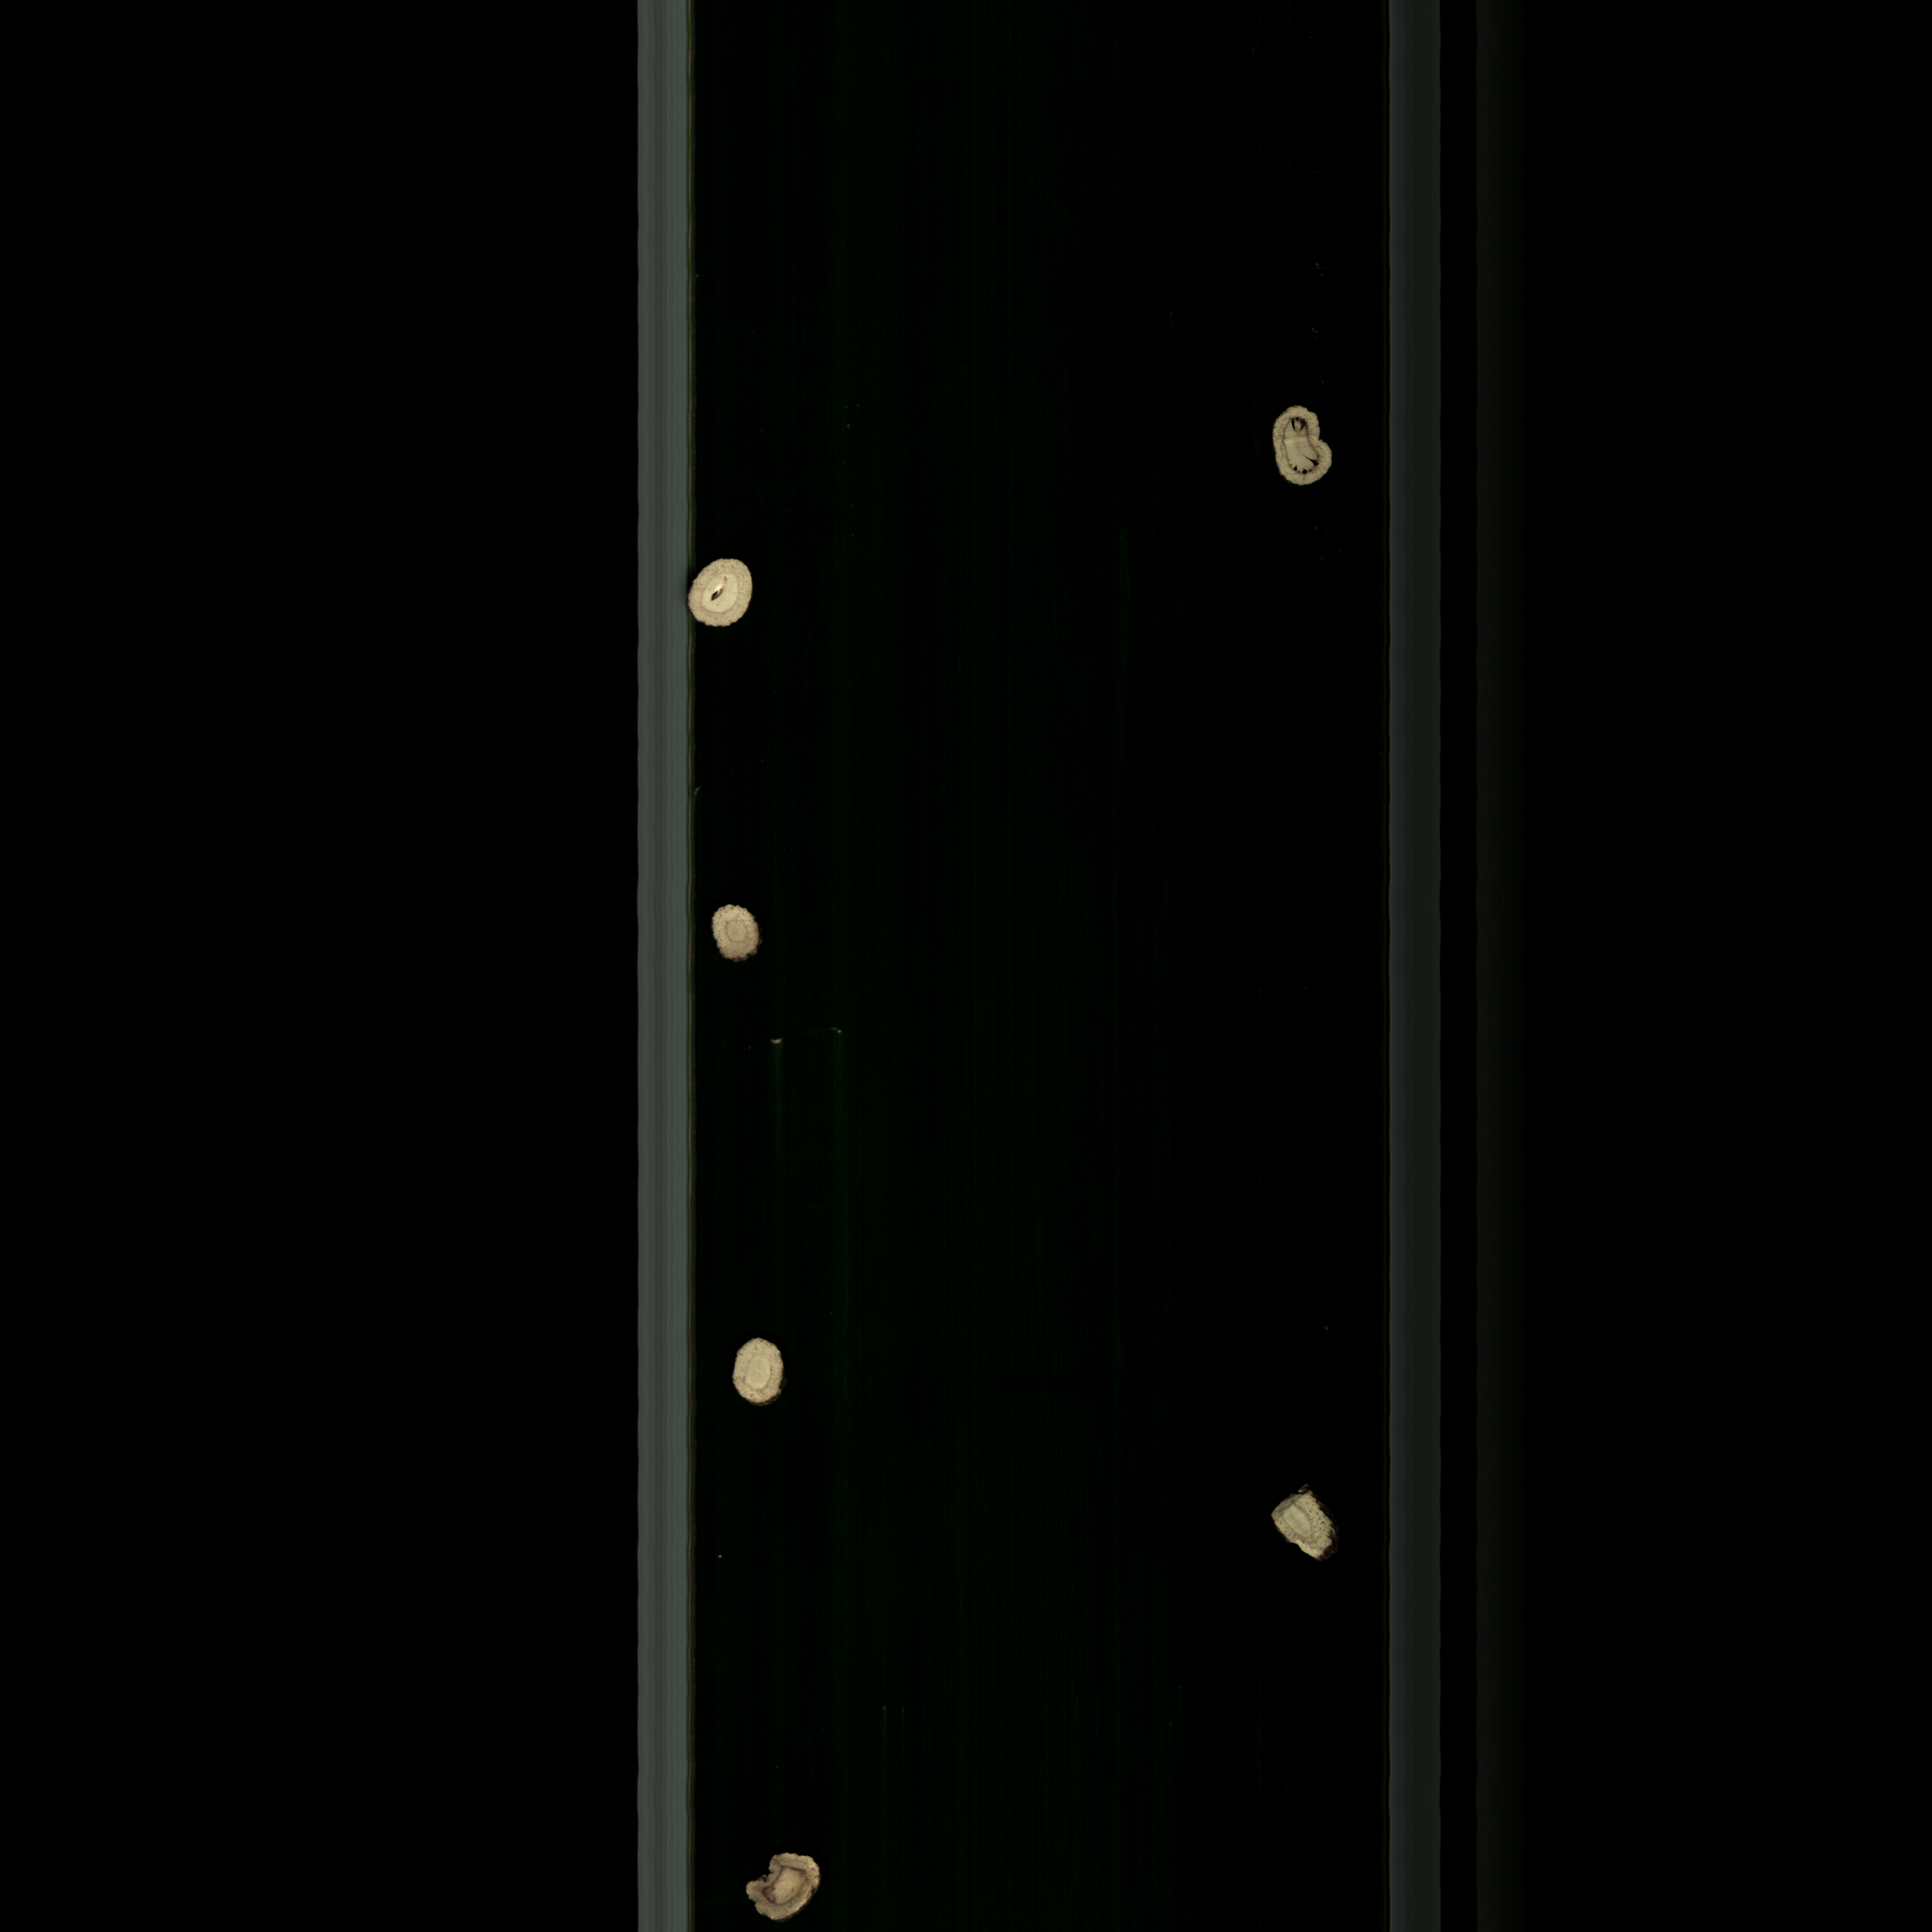debris: (1263, 1481, 1341, 1573)
hole: (686, 552, 764, 644)
moldy: (1256, 400, 1345, 502), (738, 1849, 828, 1928)
